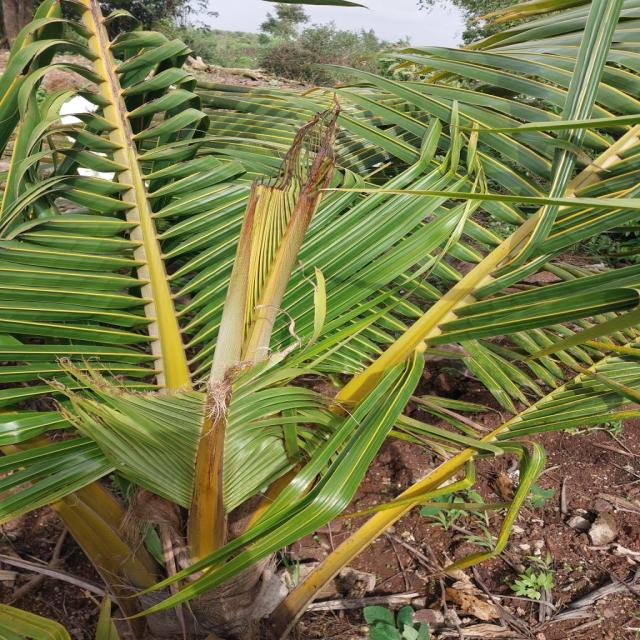bud rot: (188, 101, 340, 558)
